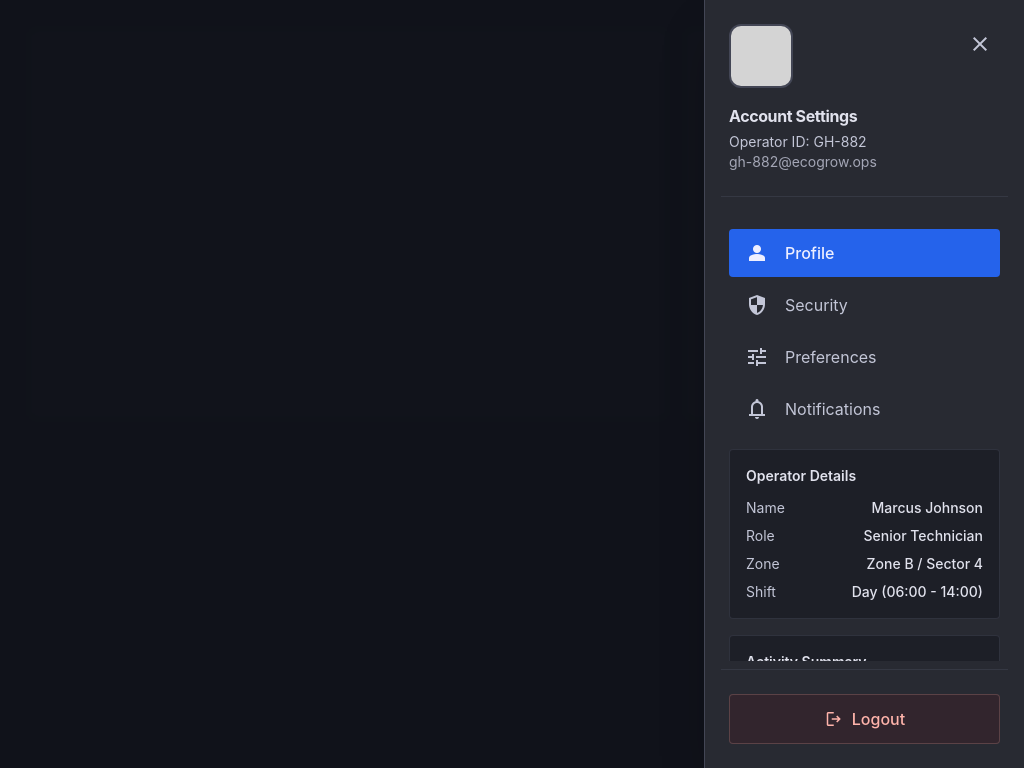
Test: ProfilePanel › switches to notifications tab when clicked
Click the button "Notifications" at point(864, 409), box [729,385,1000,433]
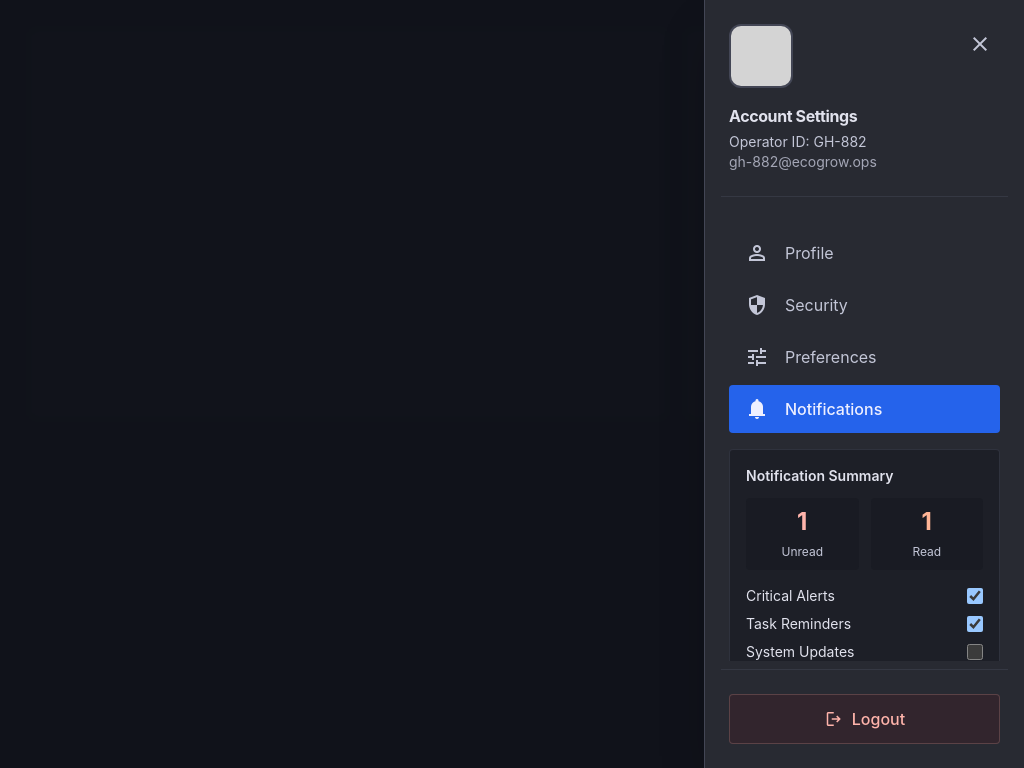
Result: the heading "Notification Summary" is shown at [746,467,894,484]
